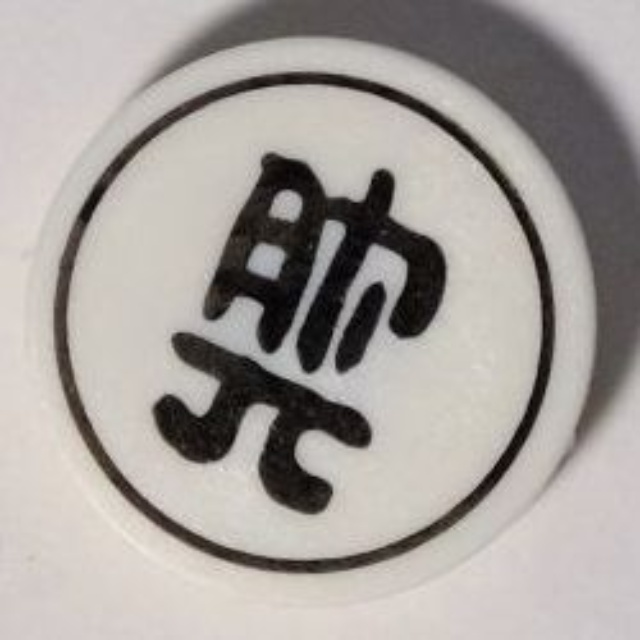black_tuong: (19, 32, 614, 607)
